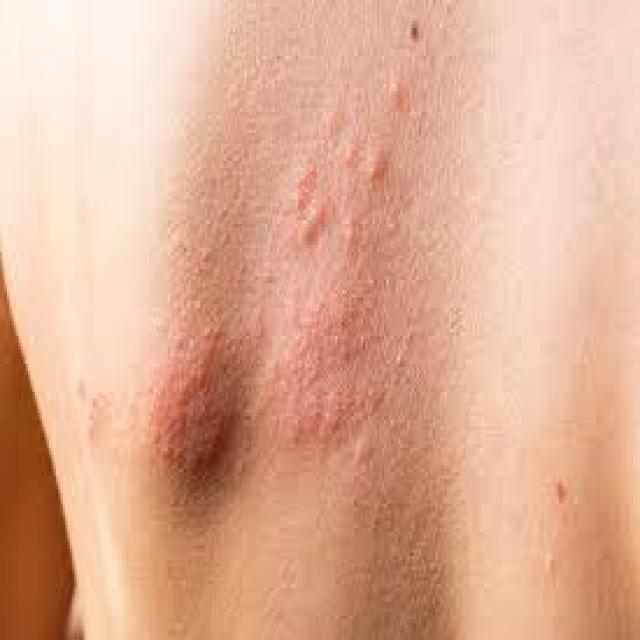Shingles: (151, 84, 410, 485)
